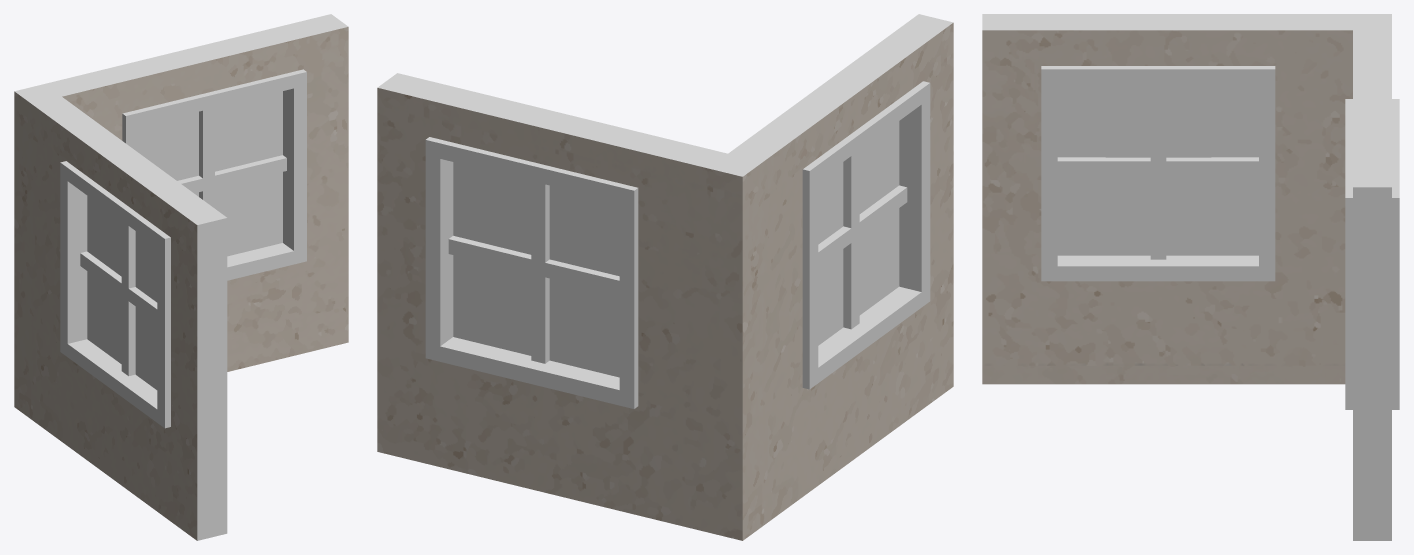
The model's file is wall_corner_both_windows.fbx.
3 renders of one model, left to right at view 1: azimuth 30°, elevation 25°; view 2: azimuth 150°, elevation 25°; view 3: azimuth 270°, elevation 25°, orthographic. The views are drawn at different scales.
Parts seen in each view (by area): view 1: wall_corner_both_windows; view 2: wall_corner_both_windows; view 3: wall_corner_both_windows.
Part boxes in pixels (x1,y1,x2,y2): wall_corner_both_windows: [14, 14, 348, 540]; wall_corner_both_windows: [377, 14, 953, 540]; wall_corner_both_windows: [982, 14, 1399, 540].
Bounding box in the file's own units: 107 × 100 × 107.
